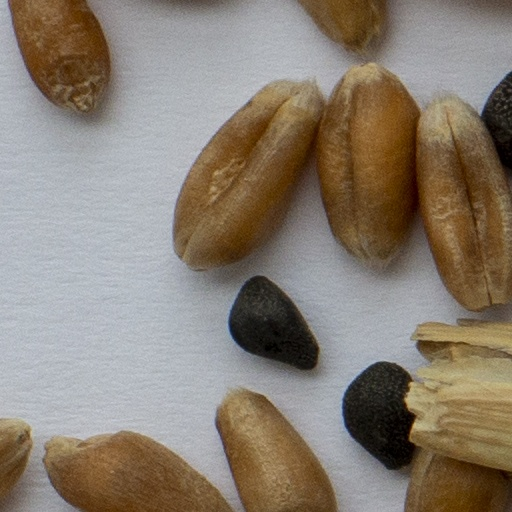Peel-poly: (410, 323, 511, 471)
